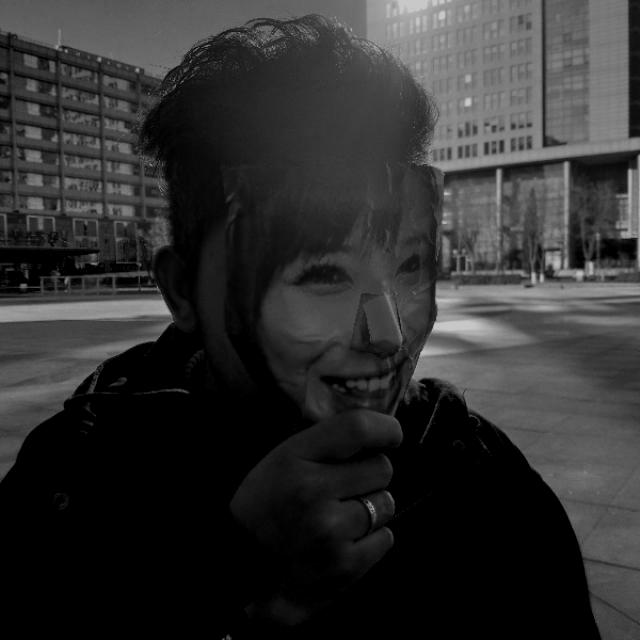fake: (161, 18, 447, 460)
